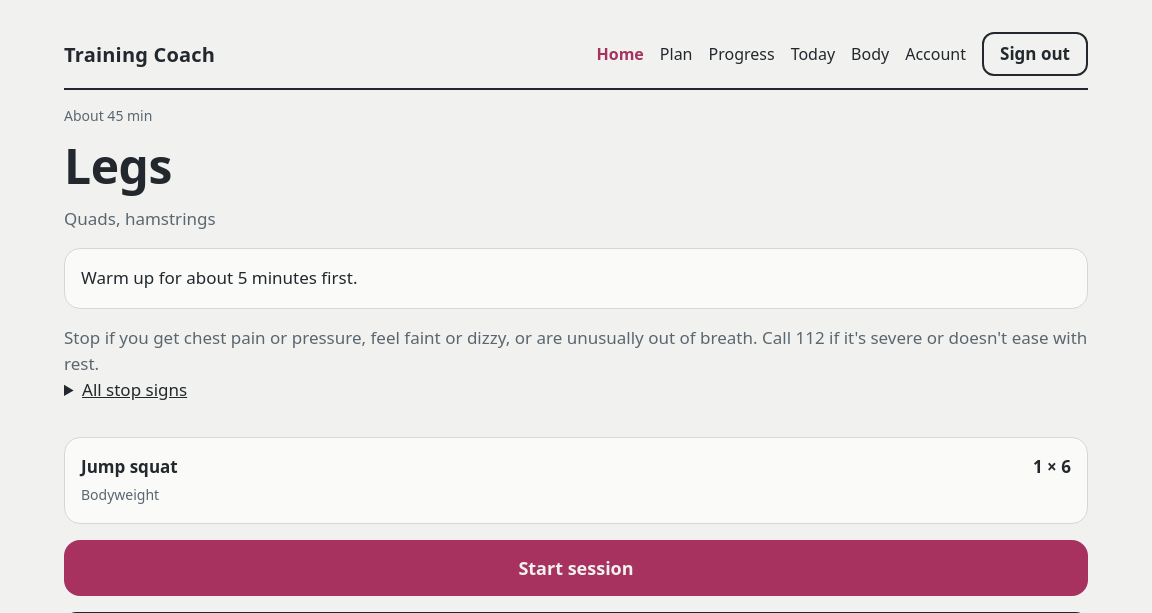
Scenario: a saved session offers Undo, which brings it back unsaved
The image size is (1152, 613).
Click the button "Start session". click: (576, 568)
box: left=64, top=540, right=1088, bottom=596
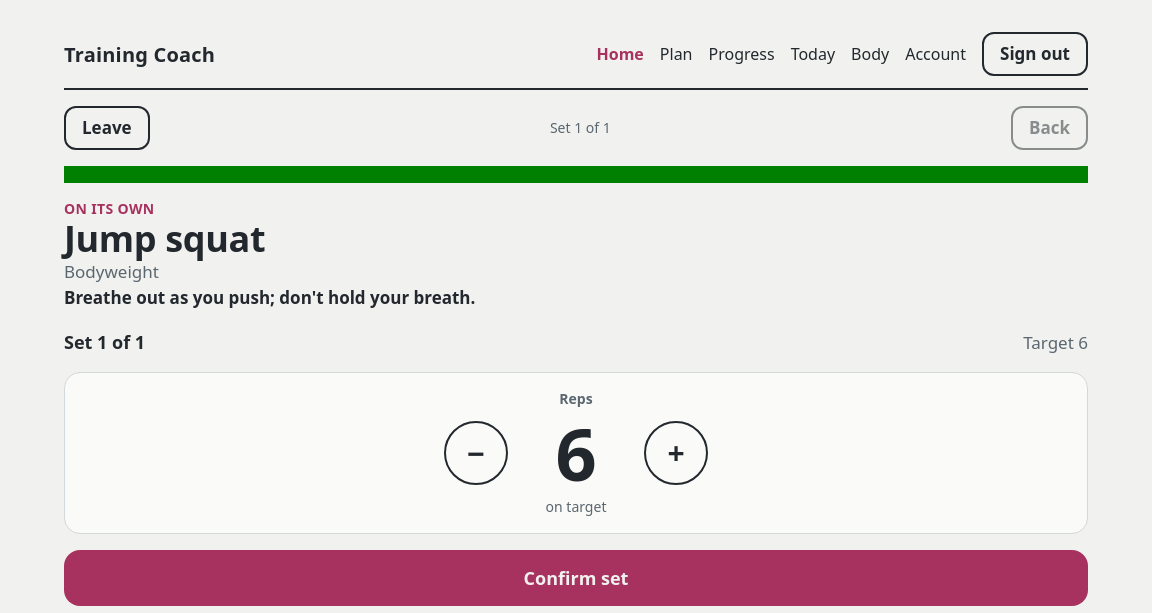
Click the button "Confirm set". click: (576, 578)
box: left=64, top=550, right=1088, bottom=606
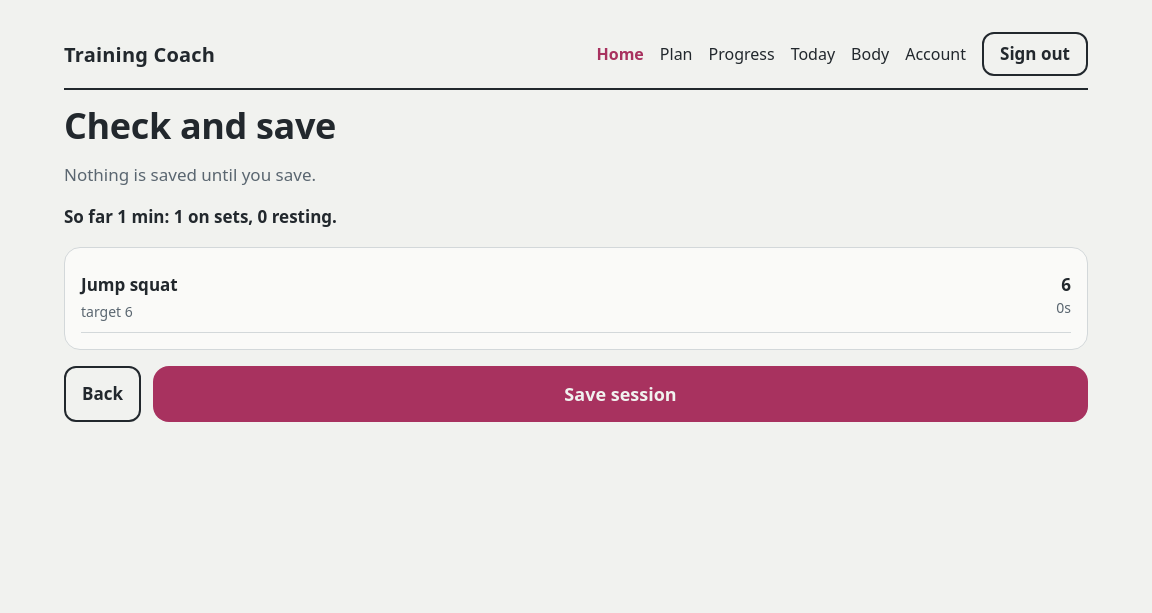
Click the button "Save session". click: (620, 394)
box: left=153, top=366, right=1088, bottom=422
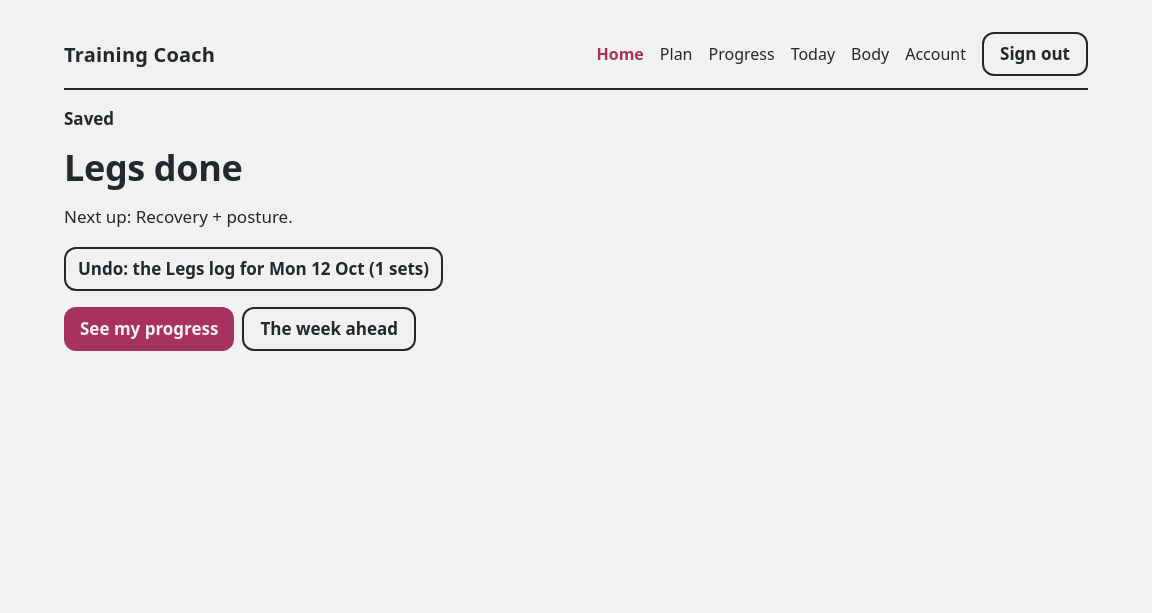
expect the heading "Legs done" is shown: met, box left=64, top=143, right=242, bottom=192
Click the button "Undo: the Legs log for Mon 12 Oct (1 sets)". click: (254, 269)
box: left=64, top=247, right=443, bottom=291
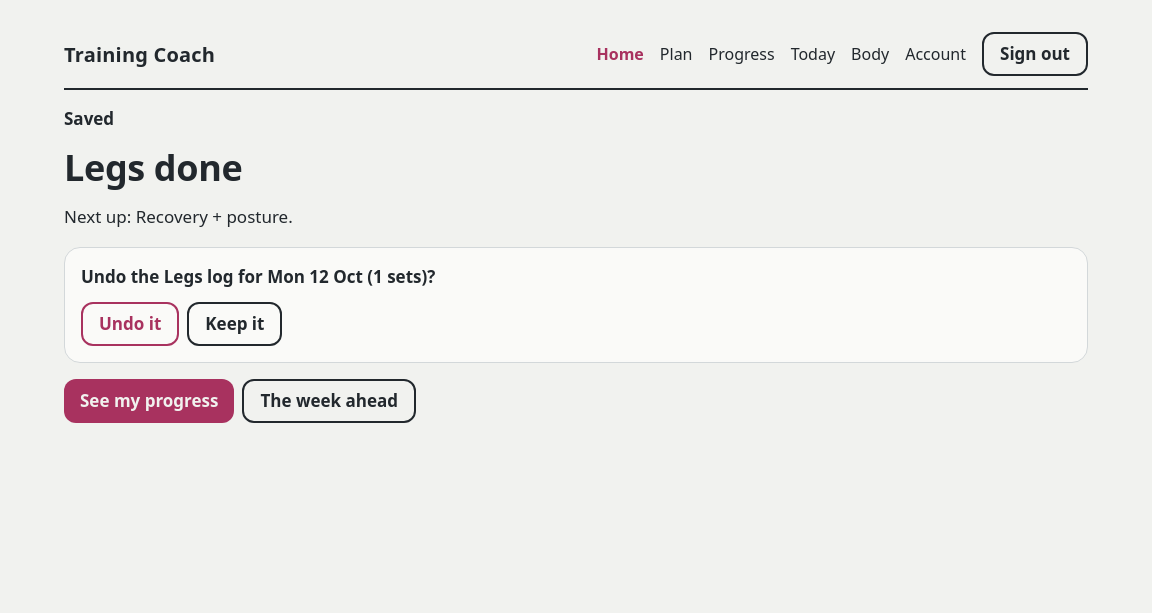
Click the button "Undo it". click: (130, 324)
box: left=81, top=302, right=179, bottom=346
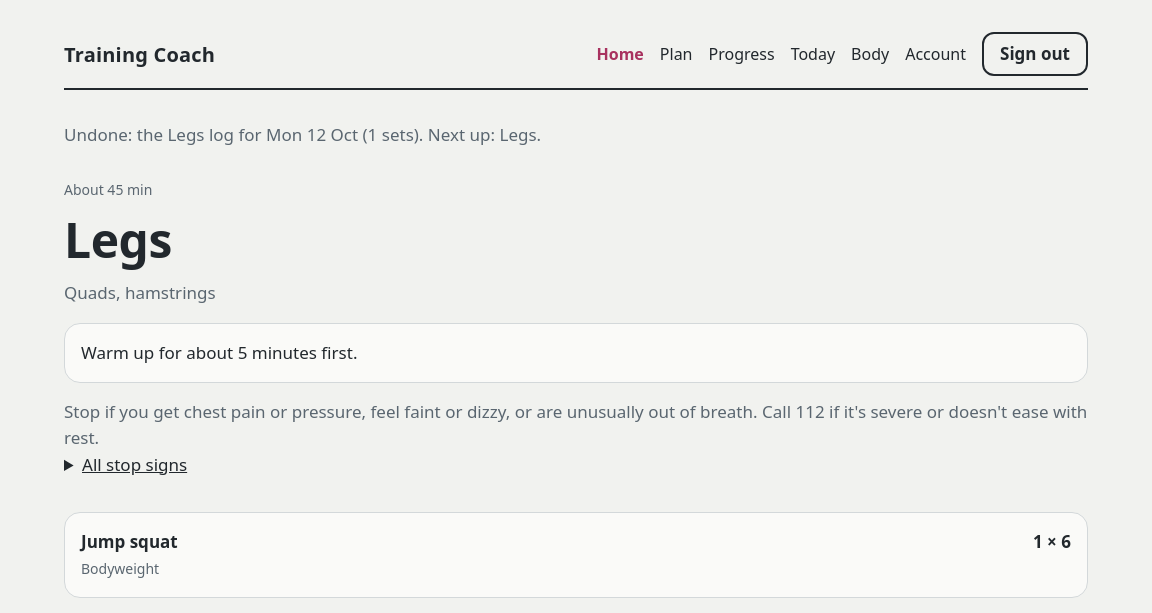
expect the heading "Legs" is shown: met, box left=64, top=207, right=172, bottom=272
